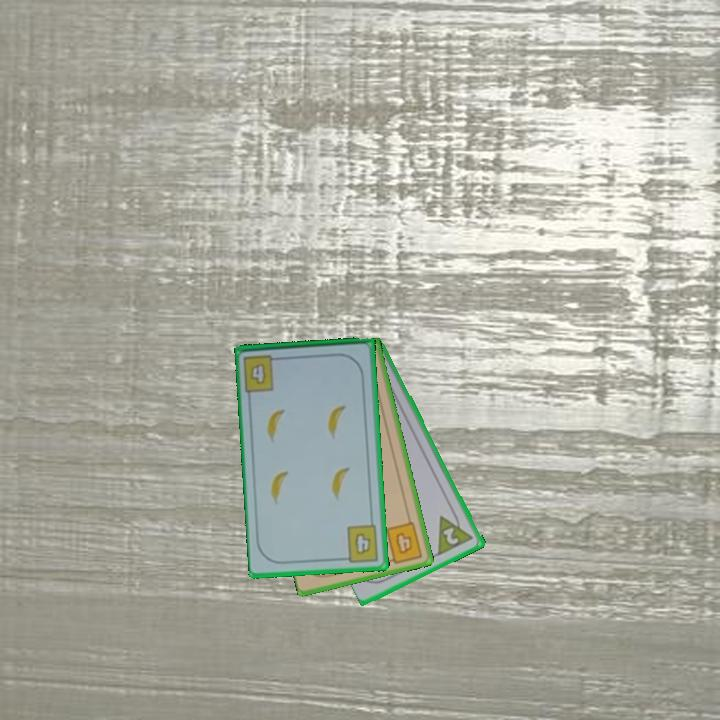2p: (434, 506, 477, 558)
4b: (383, 519, 426, 566), (240, 351, 285, 394), (339, 521, 381, 565)
